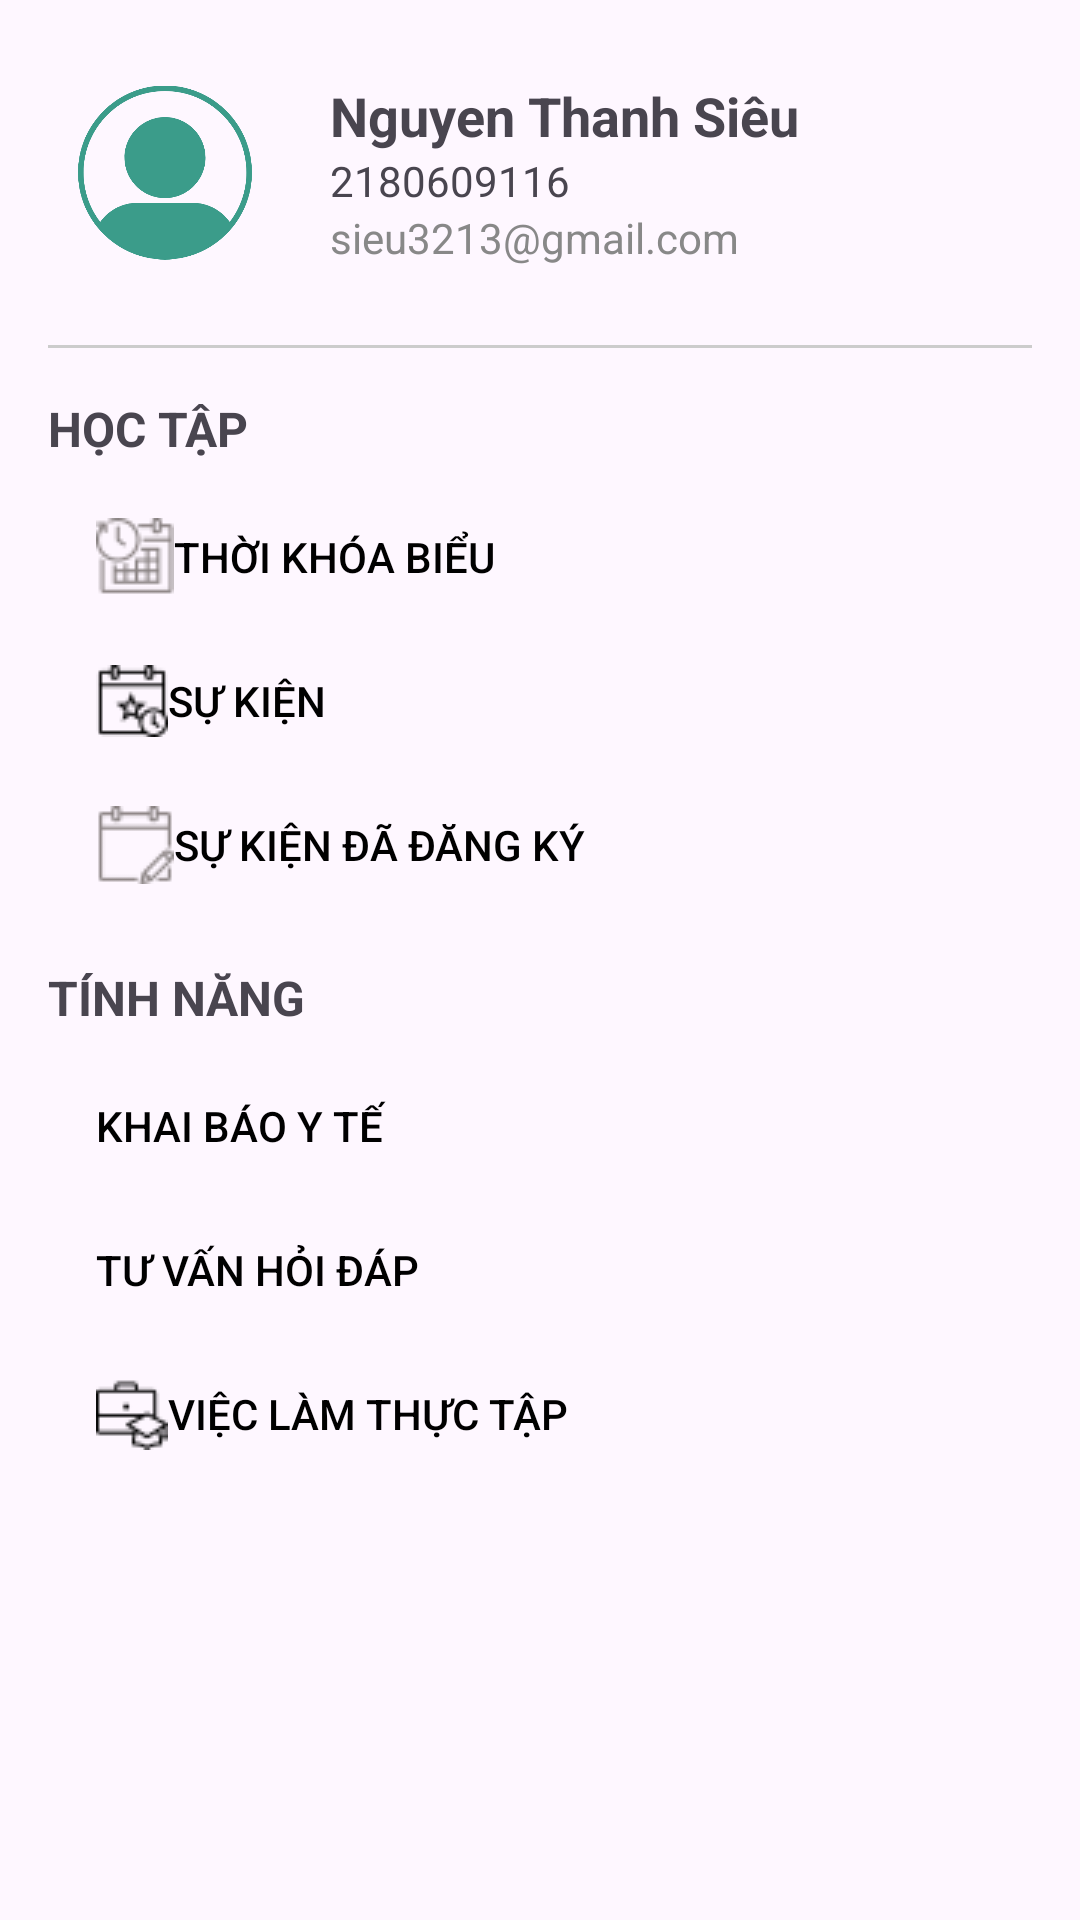

Icon bounding boxes for this 1080*1920 phone screenshot, format (x1, y1, x2, y2):
user: (78, 86, 252, 260)
